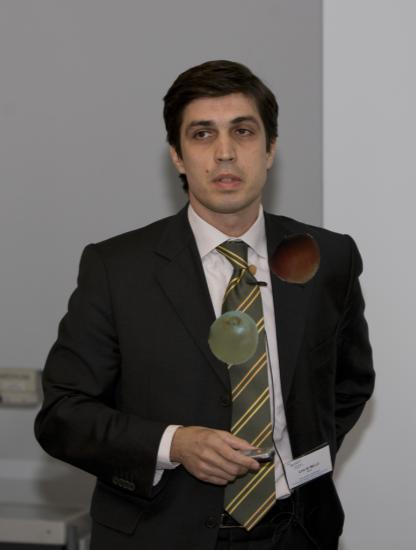Grape: (206, 310, 262, 366)
Nut: (271, 232, 325, 286)
